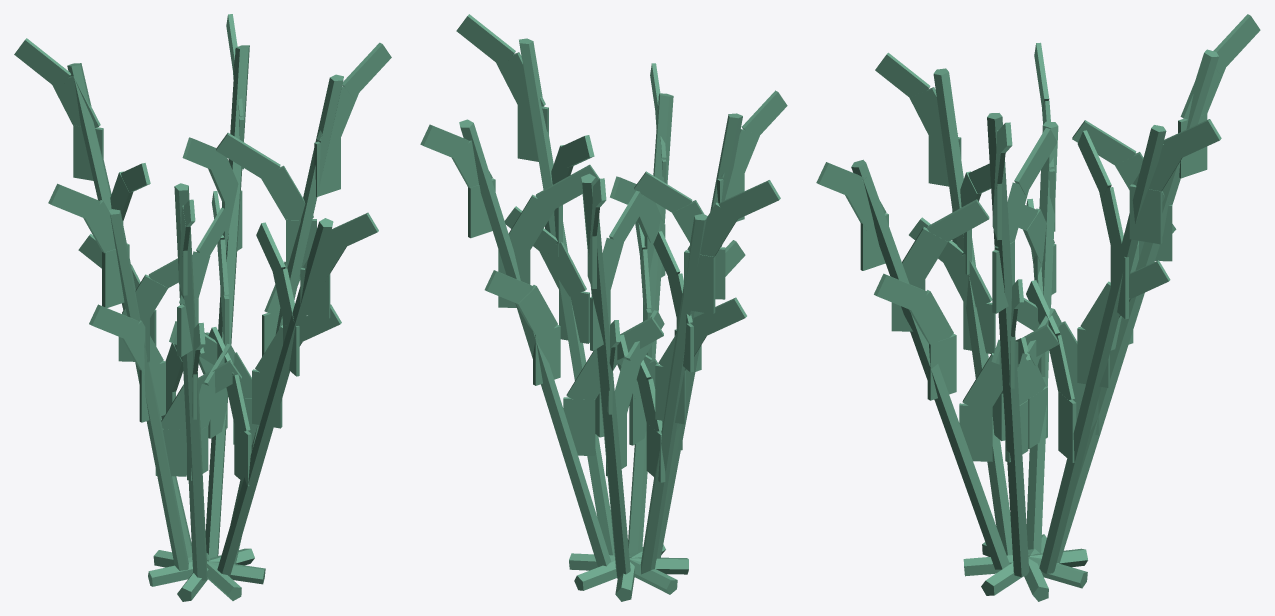
File: kelp_cluster.glb
3 renders of one model, left to right at view 1: azimuth 30°, elevation 25°; view 2: azimuth 150°, elevation 25°; view 3: azimuth 270°, elevation 25°, orthographic. The views are drawn at different scales.
Parts seen in each view (by area): view 1: kelp-frond-cluster; view 2: kelp-frond-cluster; view 3: kelp-frond-cluster.
Boxes of the visible parts, x1=… form: kelp-frond-cluster: x1=14, y1=14, x2=391, y2=601; kelp-frond-cluster: x1=420, y1=14, x2=787, y2=601; kelp-frond-cluster: x1=816, y1=14, x2=1260, y2=601.
Bounding box in the file's own units: 2.2 × 3.22 × 2.4.
